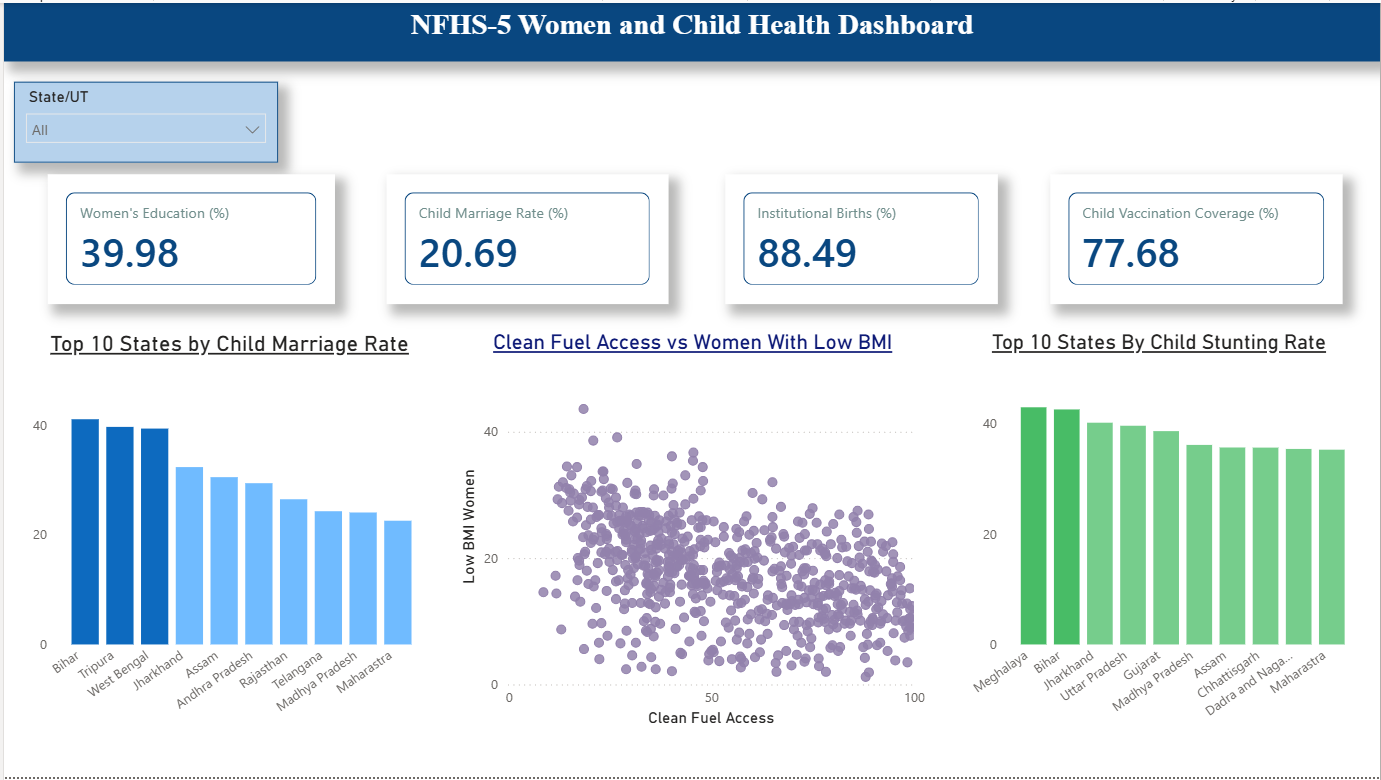

Layout of this report page (visuals, bound fields, positions):
{"tool":"powerbi","page":{"name":"Overview","canvas":[1280,720],"ordinal":0},"visuals":[{"type":"textbox","box":[0,0,1280.2,54.7],"z":0},{"type":"columnChart","title":"Top 10 States by Child Marriage Rate","fields":{"Category":["cleaned_data.State/UT"],"Y":["Avg(cleaned_data.Child_Marriage)"]},"box":[22.1,304.7,375.6,373.3],"z":5000},{"type":"columnChart","title":"Top 10 States By Child Stunting Rate","fields":{"Category":["cleaned_data.State/UT"],"Y":["Avg(cleaned_data.Stunted_Children)"]},"box":[883.7,304.7,381.4,373.3],"z":6000},{"type":"scatterChart","title":"Clean Fuel Access vs Women With Low BMI","fields":{"X":["cleaned_data.Clean_Fuel"],"Y":["cleaned_data.Women_Low_BMI"]},"box":[419.8,304.7,441.9,373.3],"z":7001},{"type":"slicer","fields":{"Values":["cleaned_data.State/UT"]},"box":[9.3,73.3,245.3,75.6],"z":7002},{"type":"cardVisual","fields":{"Data":["Avg(cleaned_data.Fully_Vaccinated_Child)"]},"box":[973.3,159.3,272.1,120.9],"z":7003},{"type":"cardVisual","fields":{"Data":["Avg(cleaned_data.Institutional_Births)"]},"box":[670.9,159.3,253.5,120.9],"z":7004},{"type":"cardVisual","fields":{"Data":["Avg(cleaned_data.Child_Marriage)"]},"box":[355.8,159.3,262.8,120.9],"z":7005},{"type":"cardVisual","fields":{"Data":["Avg(cleaned_data.Women_Education)"]},"box":[40.7,159.3,267.4,120.9],"z":7006}]}

Visuals, with their boxes in screenshot pixels (x1, y1, x2, y2), scaled from the page's 1280x720 canvas onto the 1381x780 screenshot:
textbox: region(0, 0, 1380, 59)
"Top 10 States by Child Marriage Rate" columnChart: region(24, 330, 429, 734)
"Top 10 States By Child Stunting Rate" columnChart: region(953, 330, 1365, 734)
"Clean Fuel Access vs Women With Low BMI" scatterChart: region(453, 330, 930, 734)
slicer - cleaned_data.State/UT: region(10, 79, 275, 161)
cardVisual - Avg(cleaned_data.Fully_Vaccinated_Child): region(1050, 173, 1344, 304)
cardVisual - Avg(cleaned_data.Institutional_Births): region(724, 173, 997, 304)
cardVisual - Avg(cleaned_data.Child_Marriage): region(384, 173, 667, 304)
cardVisual - Avg(cleaned_data.Women_Education): region(44, 173, 332, 304)
